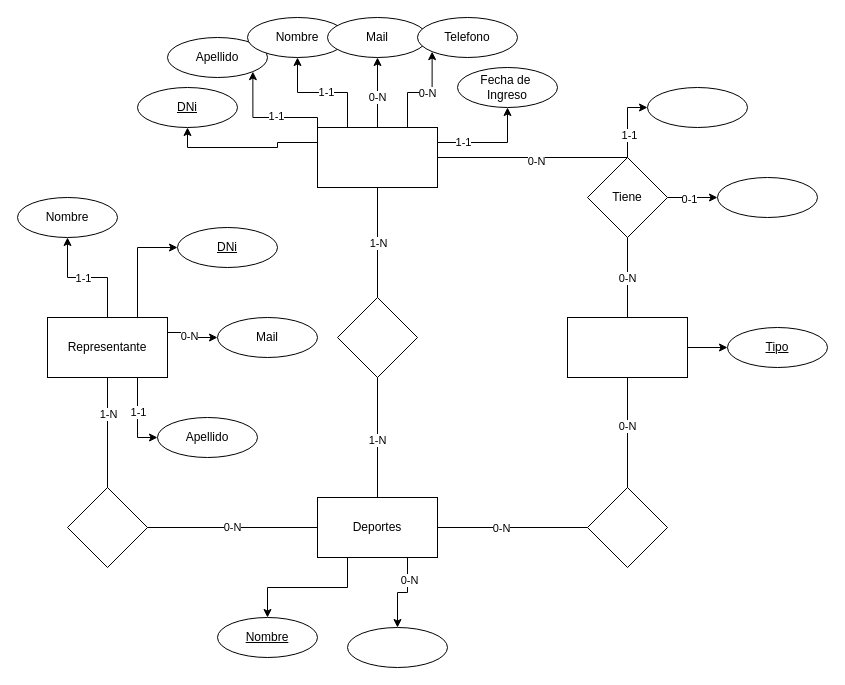
This 845x685 diagram has some shape labels left out. Here are the shapes that lost their labels. From the top down, the centre of each, then its label:
At (697,107): "Fecha de Lesion".
At (377,157): "Deportista".
At (767,197): "Tiempo de Rehabilitacion".
At (377,337): "Realiza".
At (627,347): "Lesiones".
At (107,527): "Tiene2".
At (627,527): "Posee".
At (397,647): "Descripcion".
